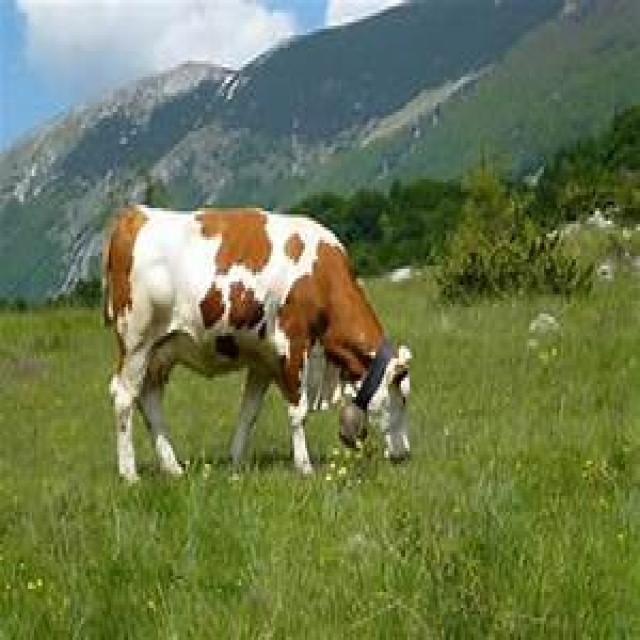animal: (100, 198, 412, 484)
